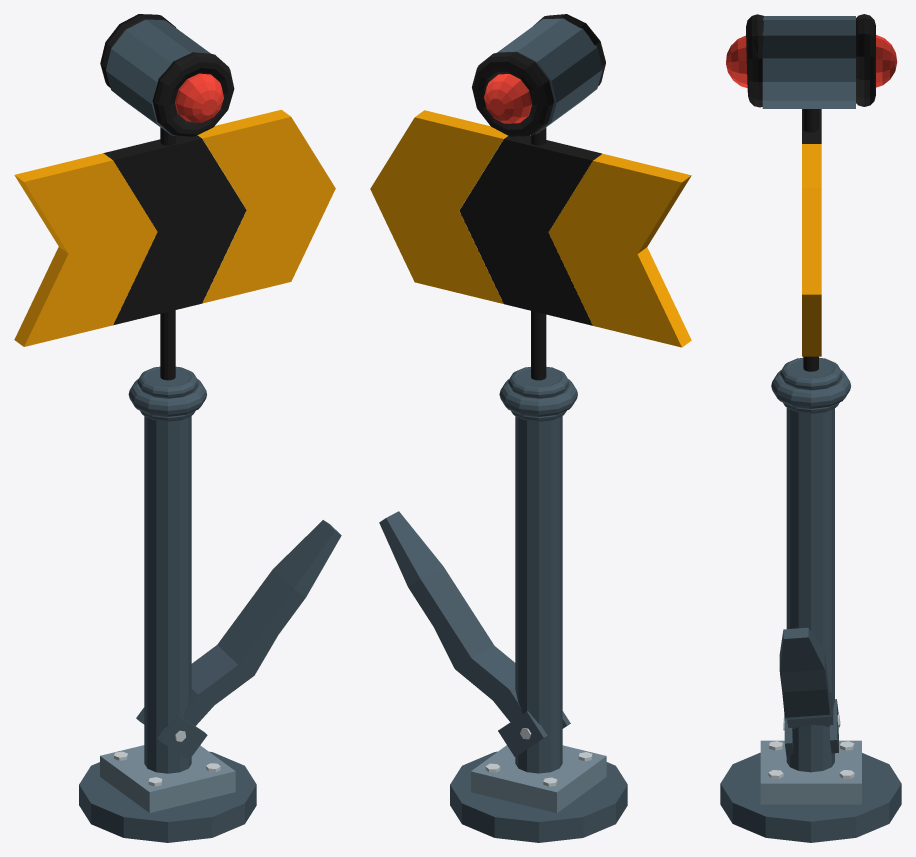
The model's file is dammafra-arrow-4207.glb.
The picture shows the model from 3 angles, left to right: view 1: azimuth 30°, elevation 25°; view 2: azimuth 150°, elevation 25°; view 3: azimuth 270°, elevation 25°; orthographic projection.
Visible parts, largest first — view 1: Chevron.002, pole1, Chevron, Chevron.001, light, lever, base, Cube, middleCenter, pole2, middleTop; view 2: Chevron.002, pole1, Chevron, Chevron.001, light, lever, base, Cube, middleCenter, pole2, middleTop; view 3: light, pole1, base, lever, Cube, Chevron, middleCenter, middleTop, pole2, Circle, Chevron.001.
Part boxes in pixels (x1,y1,x2,y2): Chevron.002: [14, 153, 157, 346]; pole1: [144, 416, 191, 773]; Chevron: [198, 109, 335, 303]; Chevron.001: [103, 135, 246, 325]; light: [100, 14, 234, 136]; lever: [136, 520, 341, 759]; base: [79, 751, 256, 842]; Cube: [100, 745, 235, 812]; middleCenter: [128, 379, 206, 416]; pole2: [160, 127, 175, 380]; middleTop: [137, 366, 198, 398]; Chevron.002: [548, 154, 691, 347]; pole1: [515, 416, 562, 773]; Chevron: [370, 110, 507, 303]; Chevron.001: [459, 136, 601, 325]; light: [472, 14, 605, 136]; lever: [379, 511, 570, 756]; base: [450, 751, 627, 842]; Cube: [471, 745, 606, 813]; middleCenter: [499, 379, 577, 416]; pole2: [531, 127, 546, 380]; middleTop: [508, 366, 569, 398]; light: [726, 14, 897, 108]; pole1: [786, 408, 834, 772]; base: [720, 752, 901, 842]; lever: [779, 627, 840, 756]; Cube: [760, 740, 861, 804]; Chevron: [802, 144, 821, 356]; middleCenter: [771, 370, 850, 408]; middleTop: [780, 357, 842, 389]; pole2: [803, 109, 818, 371]; Circle: [788, 359, 833, 377]; Chevron.001: [802, 109, 821, 143].
Size of the model in its own units: 0.4583 by 1.08 by 0.2261.
